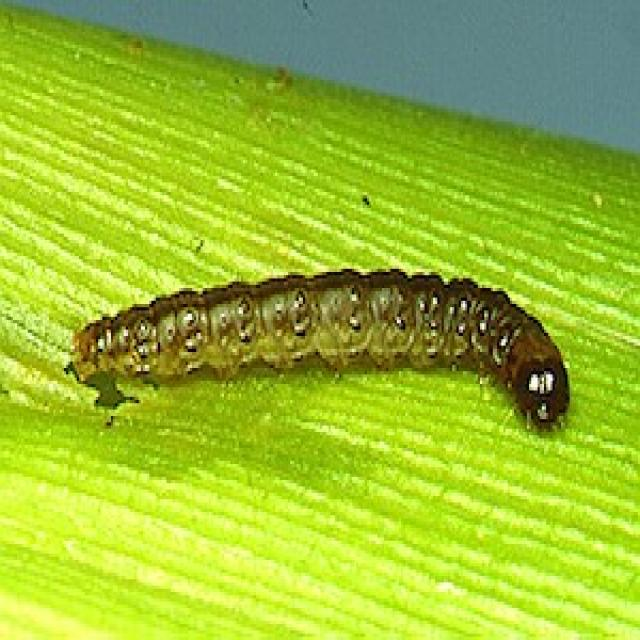cornborer-Larva-: (61, 231, 603, 470)
